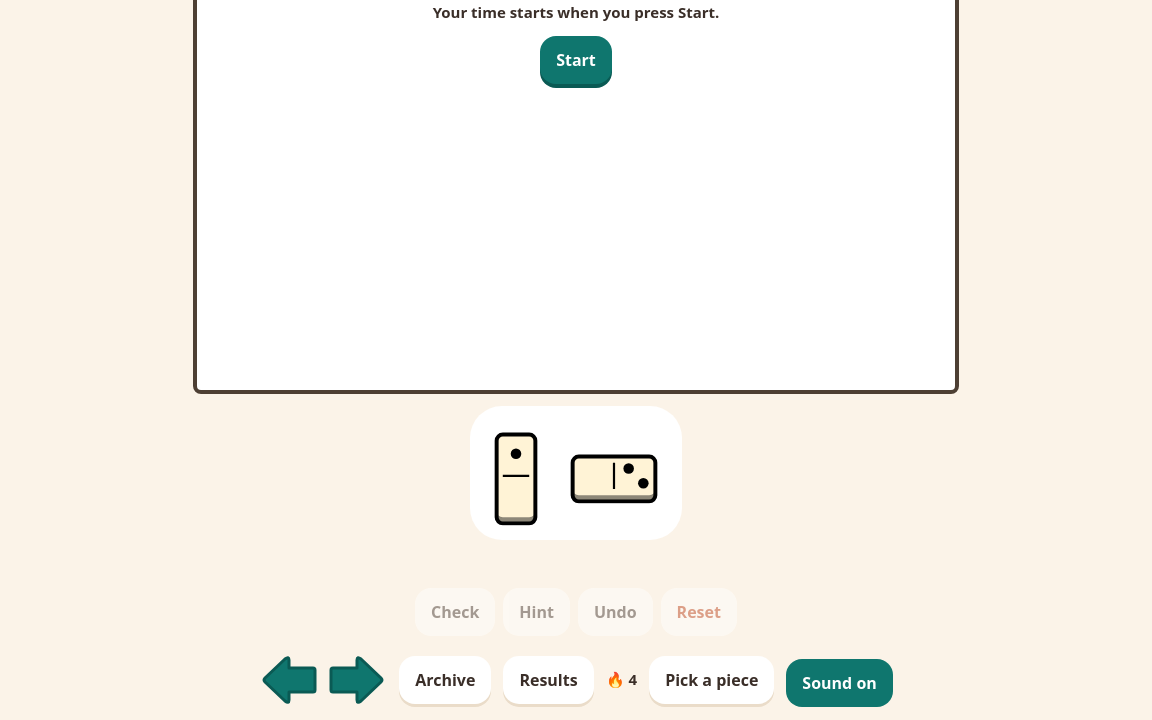
the results screen (rule 6) › names a freeze used, on the results of the day after it
(page scrolled)
Expected: the button "Archive" is shown, [399,656,491,704]
Click the button "Results" at (549, 680), box [503,656,594,704]
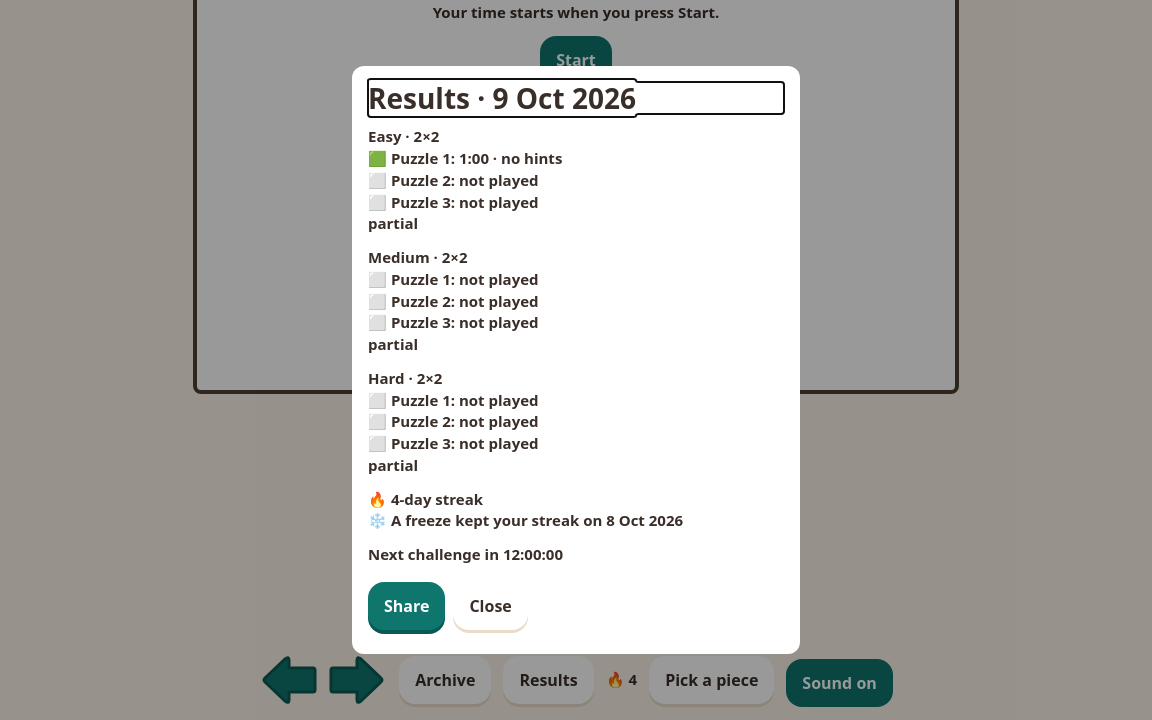
Result: the element showing "🔥 4-day streak" is shown at [368,489,483,509]
